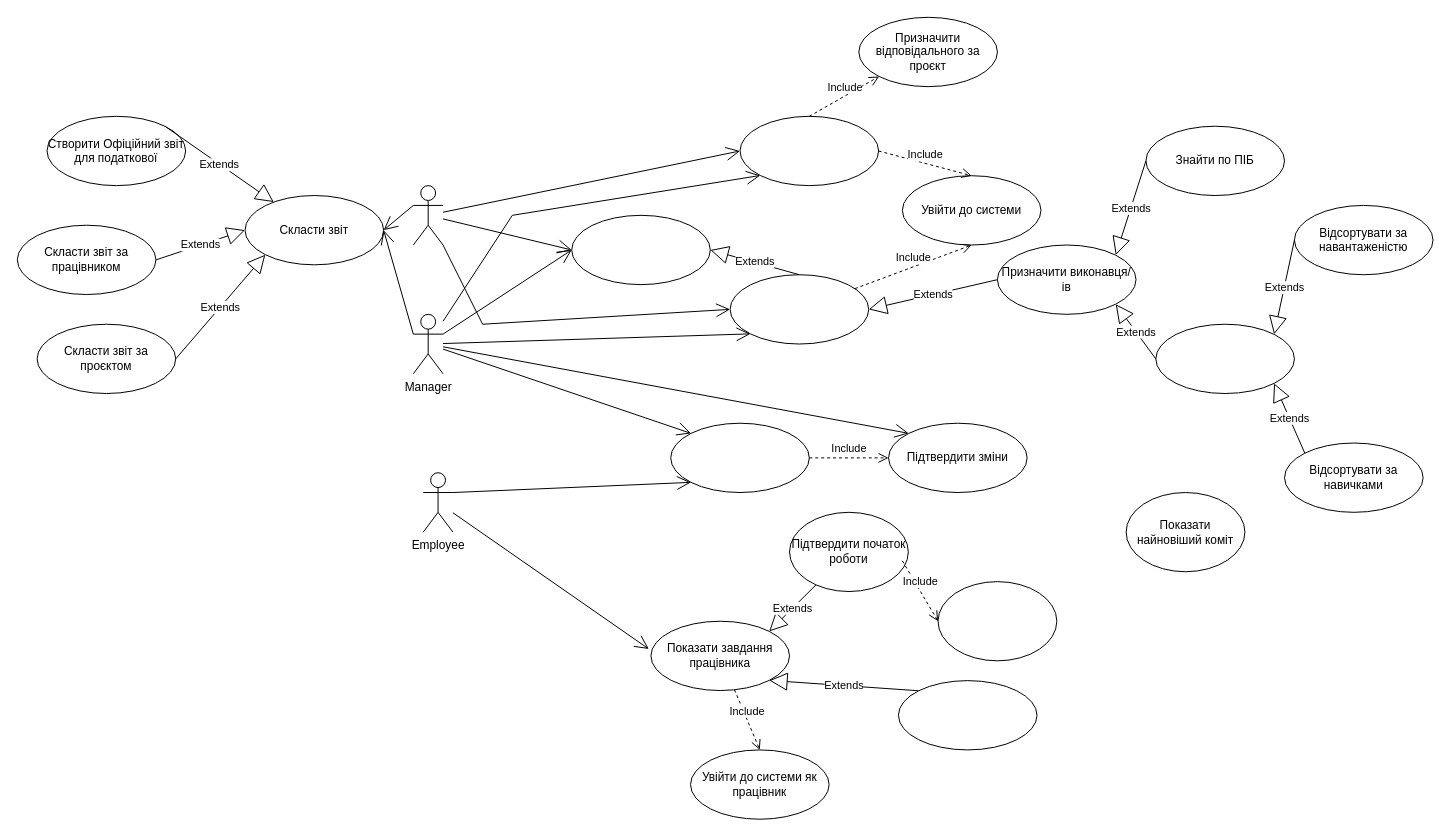
Some shapes in this 1450 by 837 pixel diagram are drawn without their labels. The centre of each missing label's shape, as x and y in pixels:
"Director" goes at point 427,215.
"Вибрати зі списку працівників" goes at point 1224,358.
"Внести зміни до профлію" goes at point 739,457.
"Додати завдання" goes at point 799,309.
"Клонувати репозиторій" goes at point 997,621.
"Позначити завдання виконаним" goes at point 967,715.
"Представити поточні проєкти" goes at point 640,249.
"Створити (додати) новий проєкт" goes at point 809,150.
